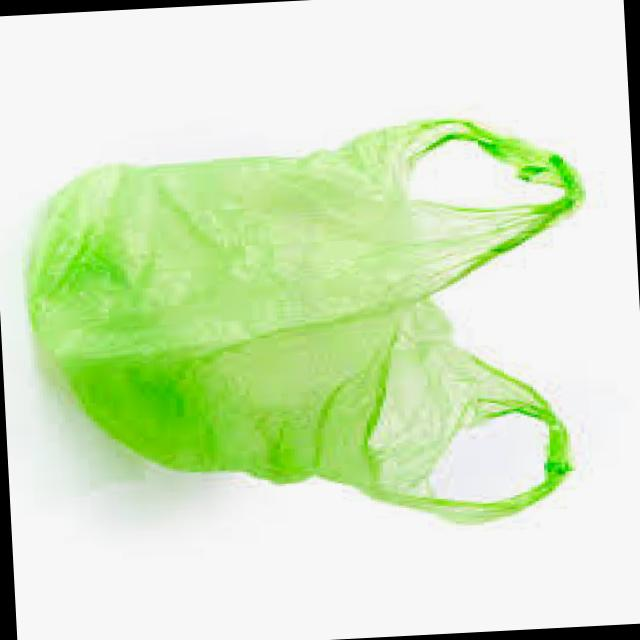plastic: (30, 120, 581, 523)
